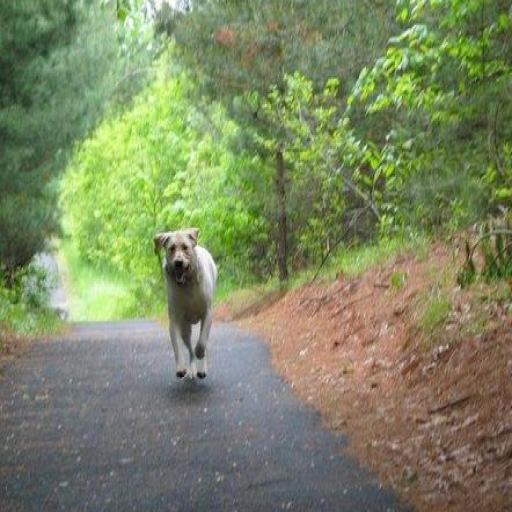dog_face: (149, 216, 204, 287)
